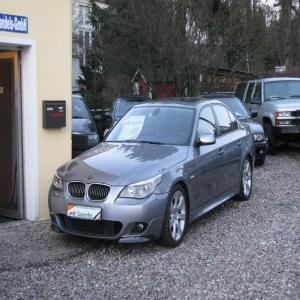Vehicle-registration-plate: (68, 205, 102, 221)
